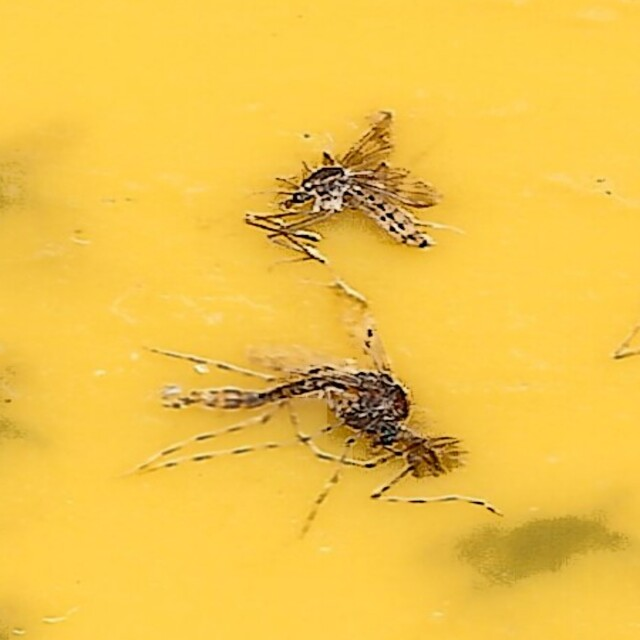Nematocera: (142, 338, 498, 526), (256, 114, 435, 259)
